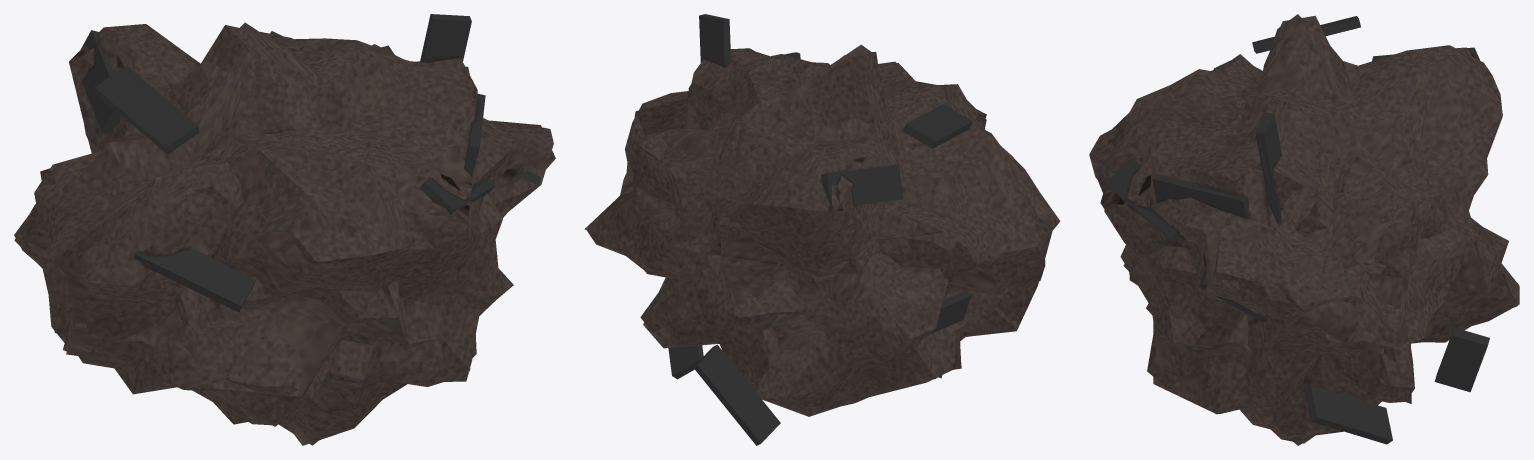
File: sd_prop_lava2.glb
The picture shows the model from 3 angles, left to right: view 1: azimuth 30°, elevation 25°; view 2: azimuth 150°, elevation 25°; view 3: azimuth 270°, elevation 25°; orthographic projection. The views are drawn at different scales.
Visible parts, largest first — view 1: LOD0_body, LOD1_body; view 2: LOD0_body, LOD1_body; view 3: LOD0_body, LOD1_body.
Part boxes in pixels (x1,y1,x2,y2): LOD0_body: (14,14,553,445); LOD1_body: (14,22,555,445); LOD0_body: (587,14,1060,445); LOD1_body: (585,44,1052,416); LOD0_body: (1089,15,1519,445); LOD1_body: (1095,14,1517,443).
Size of the model in its own units: 1 by 0.8726 by 0.8459.
Materials: 1 (1 with a texture image).
